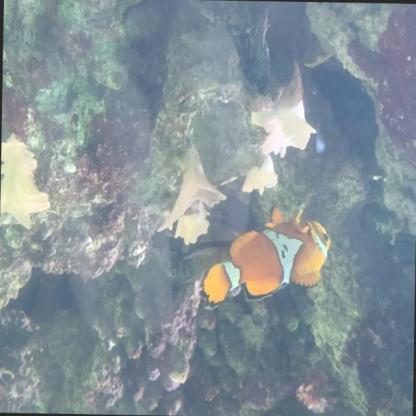fish: (197, 202, 332, 312)
